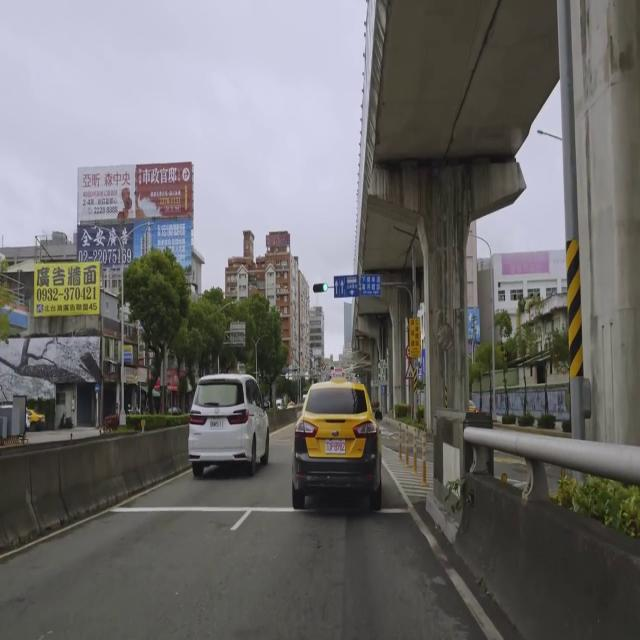green light: (313, 284, 328, 292)
